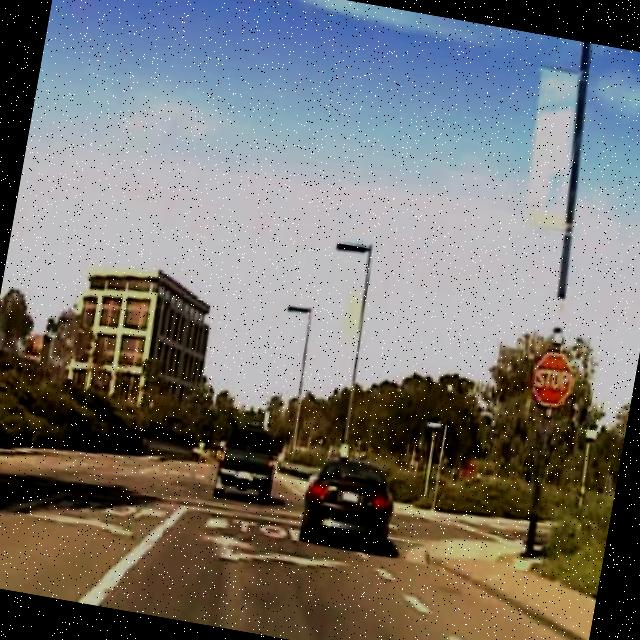Stop: (523, 347, 580, 412)
